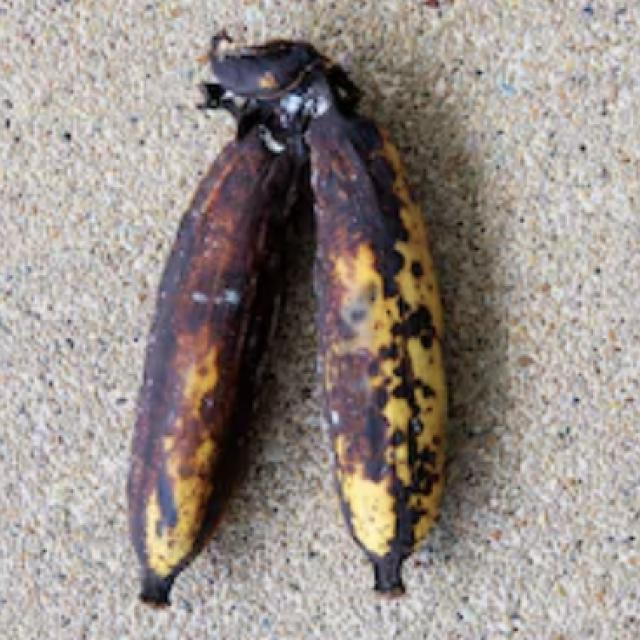Rotten: (292, 26, 489, 613), (97, 31, 285, 616)
